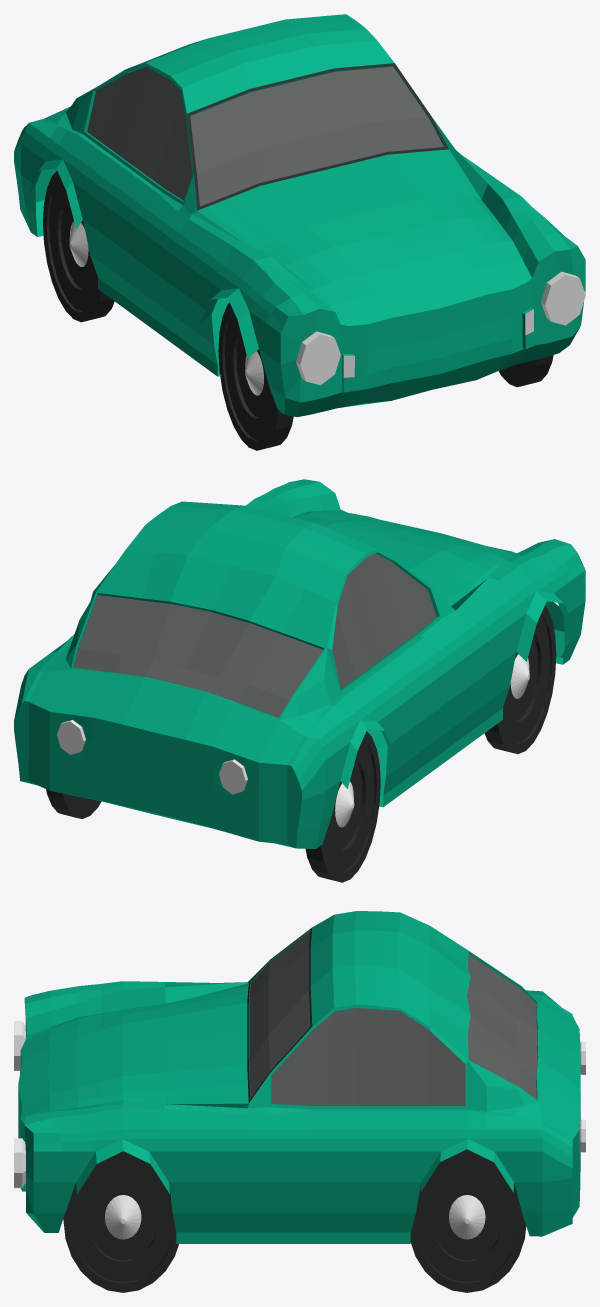
File: Civillian Car.fbx
3 views of the same model, one above another, from view 1: azimuth 30°, elevation 25°; view 2: azimuth 150°, elevation 25°; view 3: azimuth 270°, elevation 25° (orthographic). The views are drawn at different scales.
Visible parts, largest first — view 1: Car; view 2: Car; view 3: Car.
Boxes of the visible parts, left/top/right/bottom form: Car: left=14, top=14, right=585, bottom=450; Car: left=14, top=479, right=585, bottom=882; Car: left=14, top=911, right=585, bottom=1292.
Size of the model in its own units: 123 by 102 by 190.
